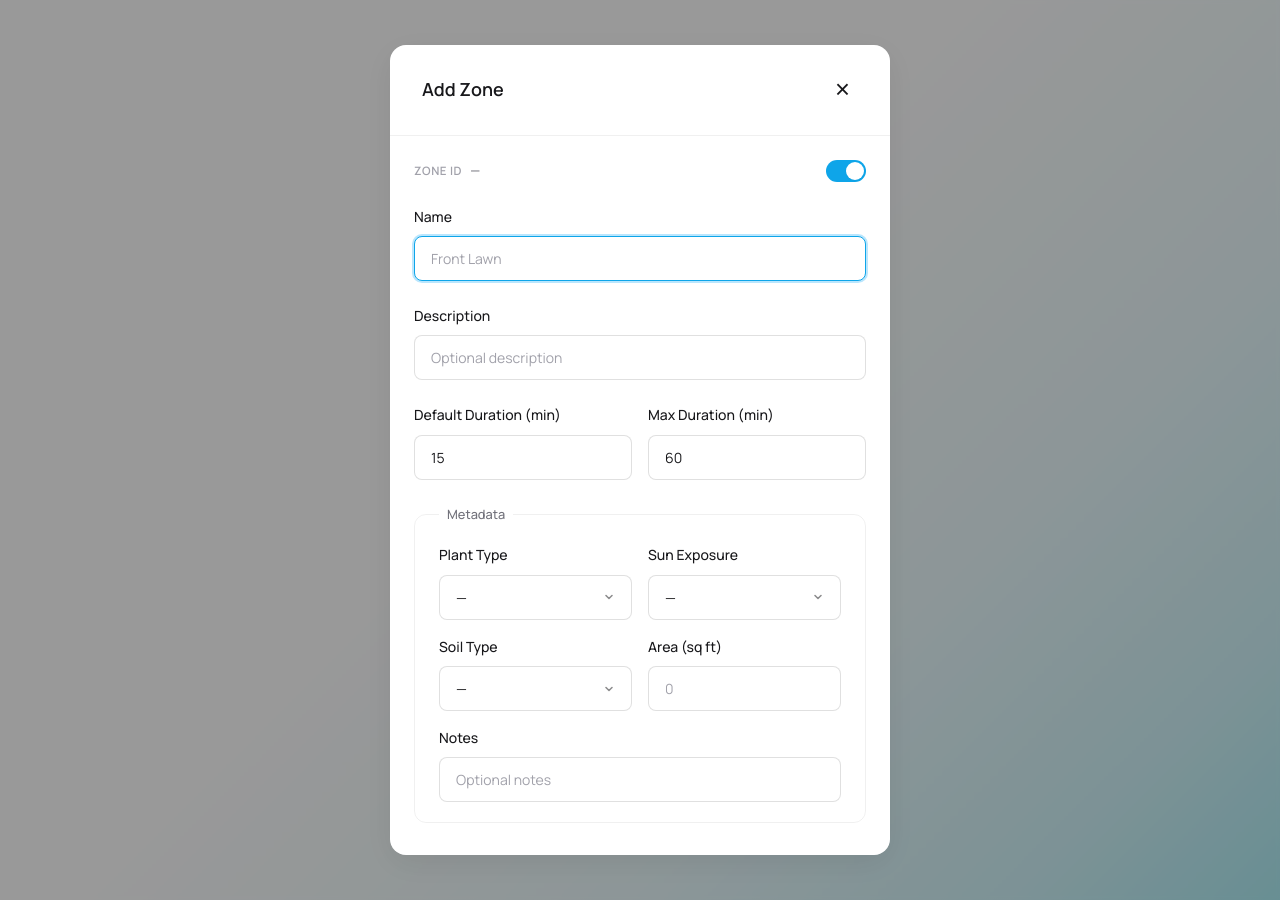
Test: ZoneFormModal › shows defaults in add mode and derives the Zone ID slug from the typed name
The width and height of the screenshot is (1280, 900).
Expected: the heading "Add Zone" is shown, [422,75,504,104]
Expected: the number field showing "15" below "Default Duration (min)" is shown, [414,435,632,480]
Type "Side Garden" into the field with placeholder "Front Lawn" at (640, 258), box [414,236,866,281]
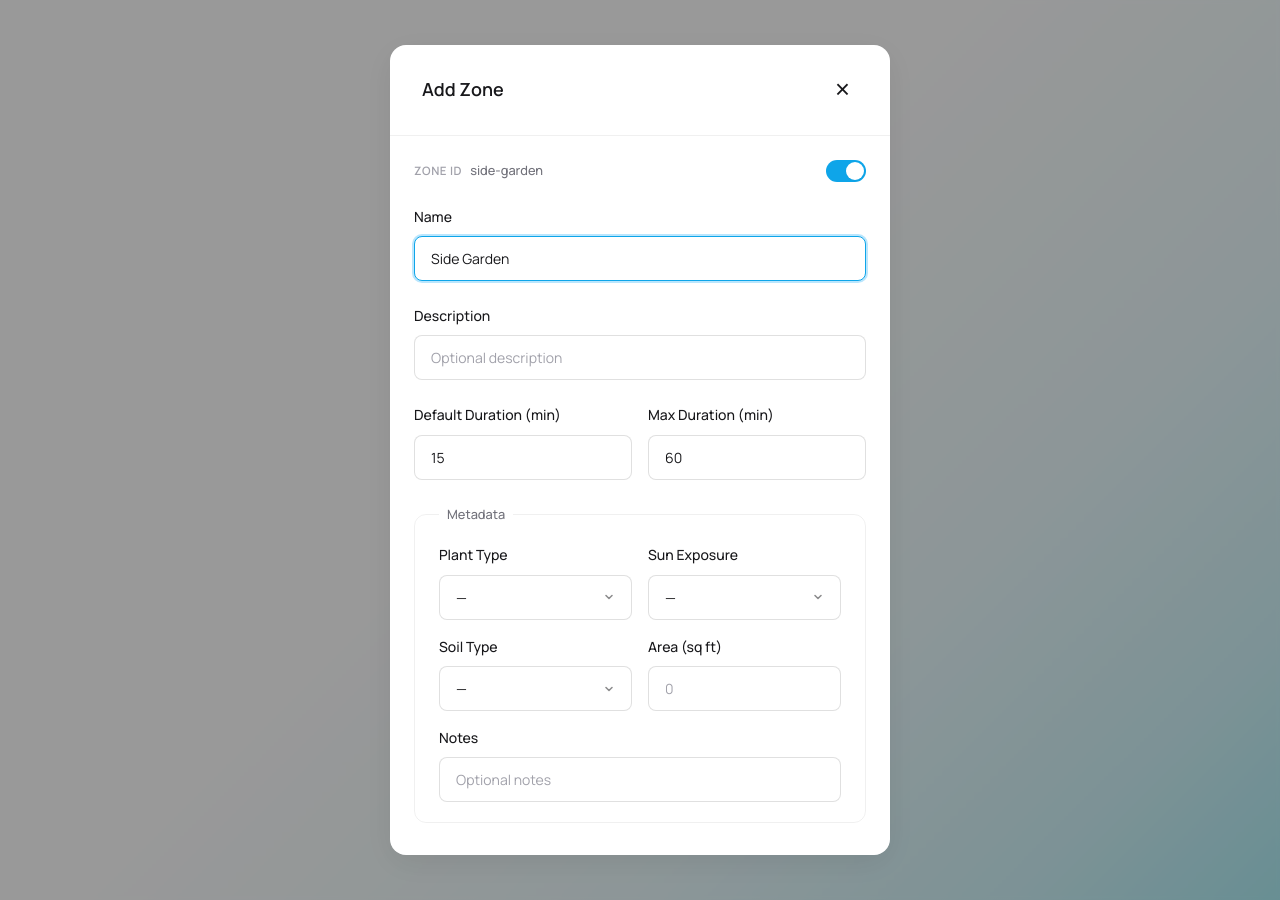
Now the text with class "zone-form-id__value" reads "side-garden", box [470,161,543,179]
Replace the text in the field with placeholder "Front Lawn" with "Front Lawn" at (640, 258), box [414,236,866,281]
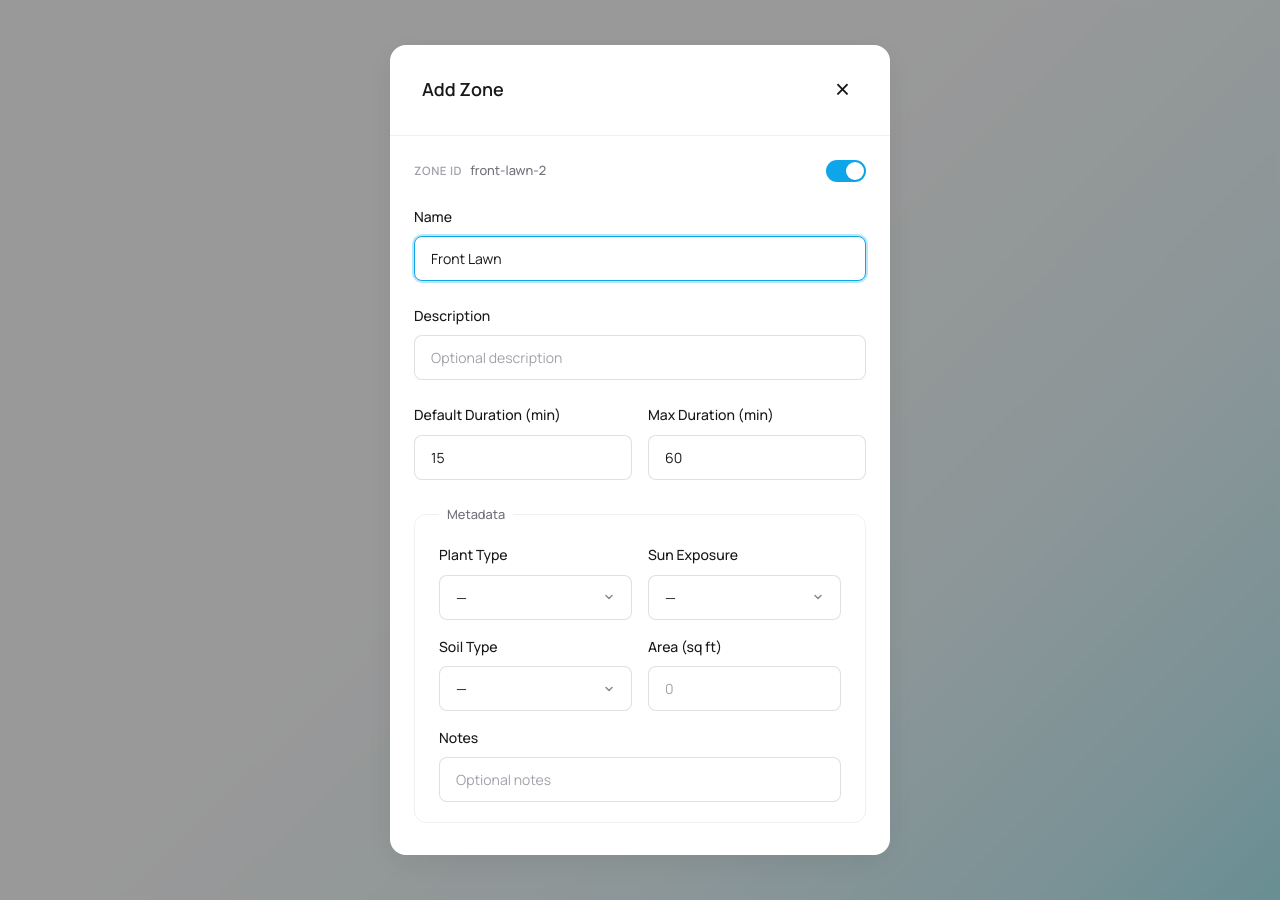
Now the text with class "zone-form-id__value" reads "front-lawn-2", box [470,161,546,179]
